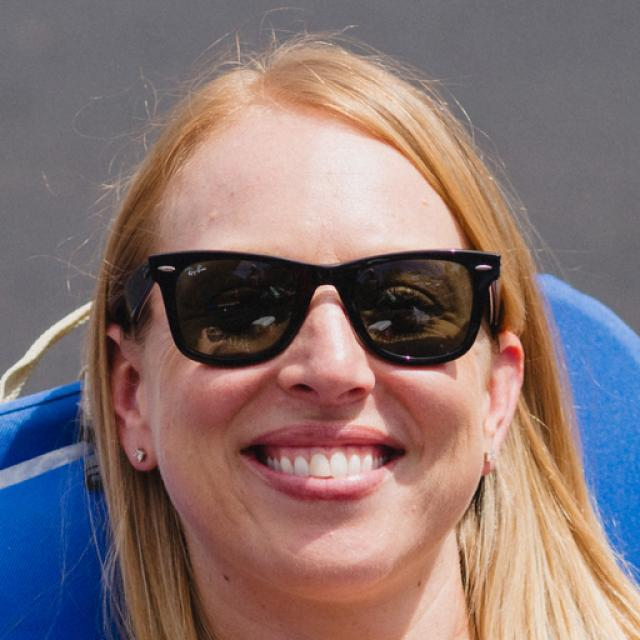happy: (145, 100, 490, 592)
